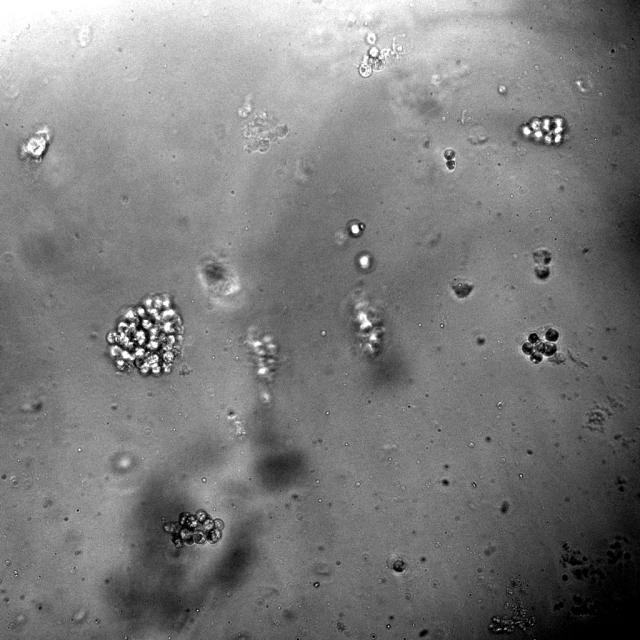organoid: (106, 294, 183, 374), (560, 536, 631, 581), (239, 94, 287, 153), (358, 32, 412, 78), (351, 291, 386, 358), (163, 509, 224, 547), (244, 327, 278, 384), (199, 256, 240, 303), (488, 598, 535, 633), (520, 115, 568, 145), (521, 329, 559, 363), (20, 126, 52, 162), (532, 247, 551, 279), (571, 594, 597, 616), (354, 250, 374, 272), (346, 219, 365, 237), (452, 281, 472, 297), (444, 148, 456, 171), (392, 558, 406, 573), (553, 601, 564, 611), (561, 574, 569, 581)
